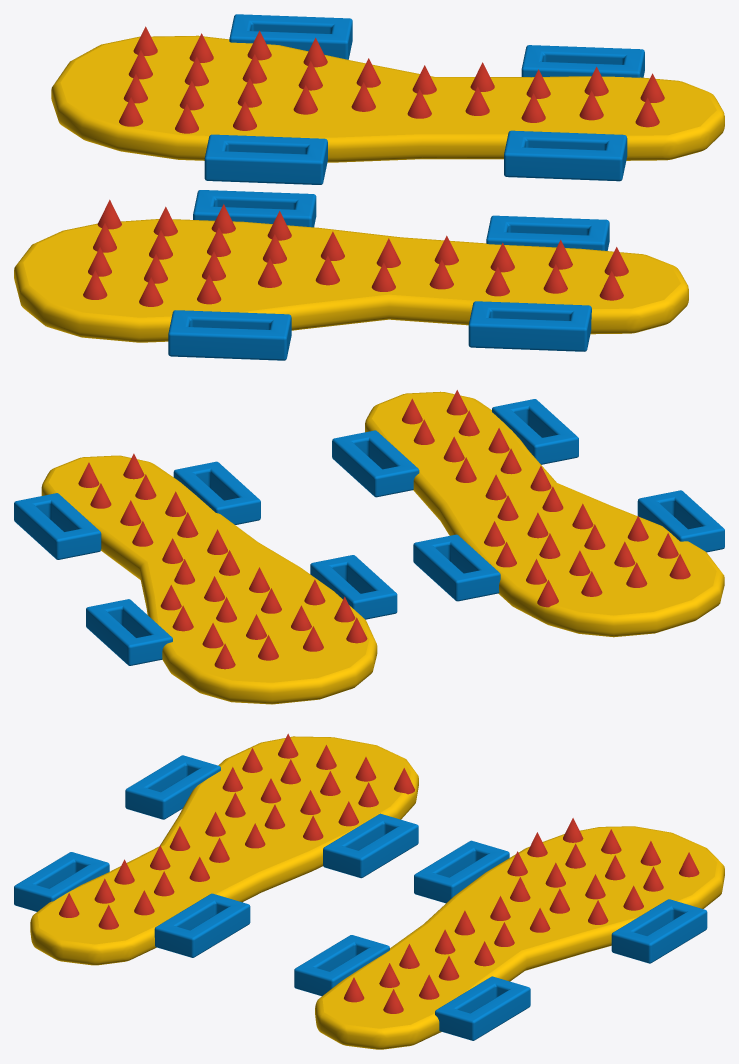
Rendered from spiked-foot-soles.glb.
The picture shows the model from 3 angles, top to bottom: view 1: azimuth 30°, elevation 25°; view 2: azimuth 150°, elevation 25°; view 3: azimuth 270°, elevation 25°; orthographic projection. The views are drawn at different scales.
Parts seen in each view (by area): view 1: spiked-foot-soles-part-001, spiked-foot-soles-part-033, spiked-foot-soles-part-029, spiked-foot-soles-part-031, spiked-foot-soles-part-063, spiked-foot-soles-part-061, spiked-foot-soles-part-064, spiked-foot-soles-part-032, spiked-foot-soles-part-030, spiked-foot-soles-part-062; view 2: spiked-foot-soles-part-033, spiked-foot-soles-part-001, spiked-foot-soles-part-062, spiked-foot-soles-part-032, spiked-foot-soles-part-030, spiked-foot-soles-part-064, spiked-foot-soles-part-063, spiked-foot-soles-part-029, spiked-foot-soles-part-031, spiked-foot-soles-part-061; view 3: spiked-foot-soles-part-033, spiked-foot-soles-part-001, spiked-foot-soles-part-064, spiked-foot-soles-part-030, spiked-foot-soles-part-032, spiked-foot-soles-part-062, spiked-foot-soles-part-031, spiked-foot-soles-part-063, spiked-foot-soles-part-061, spiked-foot-soles-part-029.
Part boxes in pixels (x1,y1,x2,y2): spiked-foot-soles-part-001: (14, 219, 688, 342); spiked-foot-soles-part-033: (51, 35, 724, 162); spiked-foot-soles-part-029: (468, 301, 591, 351); spiked-foot-soles-part-031: (168, 310, 291, 360); spiked-foot-soles-part-063: (204, 134, 327, 184); spiked-foot-soles-part-061: (504, 130, 627, 181); spiked-foot-soles-part-064: (229, 14, 352, 59); spiked-foot-soles-part-032: (193, 190, 316, 227); spiked-foot-soles-part-030: (486, 215, 609, 250); spiked-foot-soles-part-062: (521, 45, 644, 77); spiked-foot-soles-part-033: (41, 455, 377, 704); spiked-foot-soles-part-001: (365, 391, 724, 637); spiked-foot-soles-part-062: (14, 493, 101, 559); spiked-foot-soles-part-032: (413, 534, 500, 601); spiked-foot-soles-part-030: (332, 430, 419, 497); spiked-foot-soles-part-064: (86, 599, 172, 665); spiked-foot-soles-part-063: (310, 555, 397, 619); spiked-foot-soles-part-029: (492, 399, 578, 464); spiked-foot-soles-part-031: (637, 490, 724, 552); spiked-foot-soles-part-061: (173, 461, 260, 524); spiked-foot-soles-part-033: (315, 826, 724, 1049); spiked-foot-soles-part-001: (30, 736, 418, 965); spiked-foot-soles-part-064: (611, 899, 707, 963); spiked-foot-soles-part-030: (154, 893, 250, 957); spiked-foot-soles-part-032: (323, 813, 418, 878); spiked-foot-soles-part-062: (435, 976, 530, 1040); spiked-foot-soles-part-031: (125, 755, 220, 819); spiked-foot-soles-part-063: (414, 840, 509, 903); spiked-foot-soles-part-061: (294, 935, 389, 996); spiked-foot-soles-part-029: (14, 852, 109, 911).
Size of the model in its own units: 2.97 by 0.1929 by 3.
